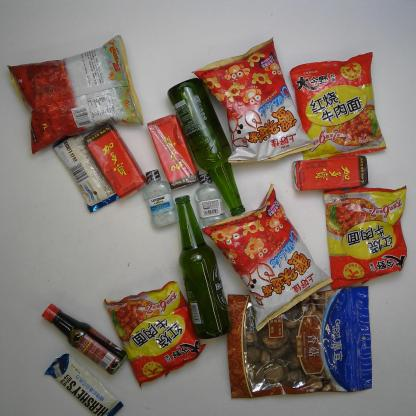Alcohol: (168, 76, 246, 216), (174, 194, 230, 342)
Chocolate: (52, 132, 120, 214), (44, 353, 124, 415)
Dried Food: (224, 283, 375, 398)
Drink: (83, 121, 148, 201), (147, 115, 200, 190), (292, 153, 370, 193)
Instant Noodles: (102, 280, 206, 388), (288, 51, 388, 163), (322, 177, 408, 292)
Personal Hygiene: (144, 167, 178, 228), (192, 173, 226, 230)
Puffed Food: (203, 183, 336, 332), (3, 33, 145, 155), (191, 35, 316, 167)
Seasoner: (41, 302, 127, 376)
